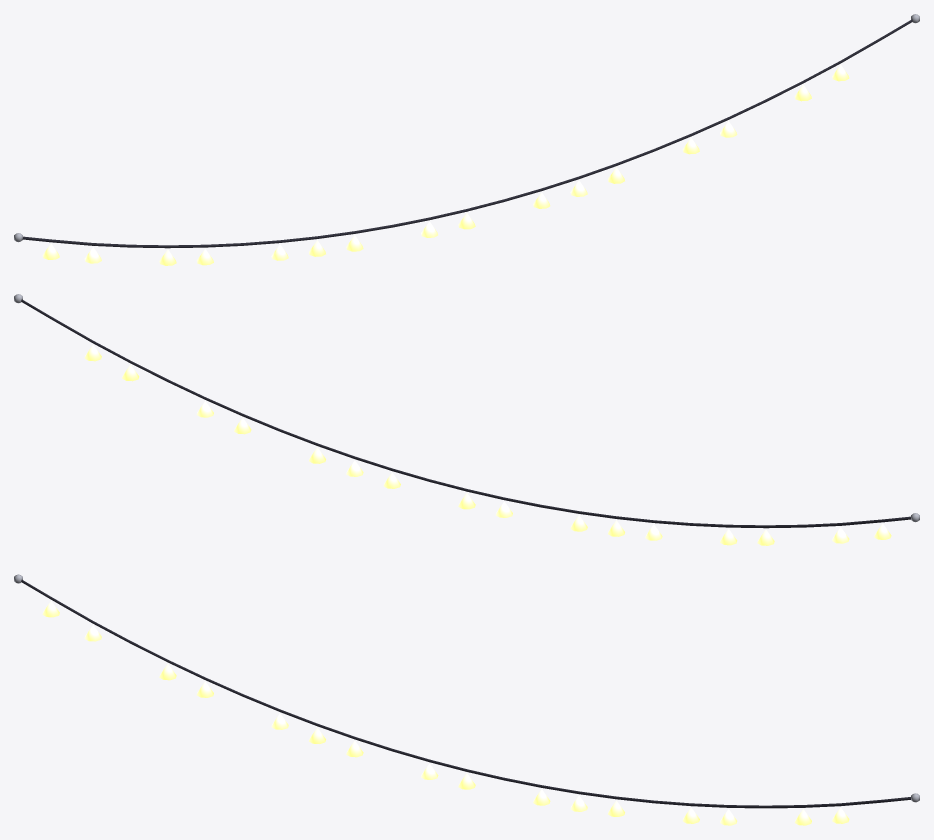
Rendered from light_string.glb.
3 renders of one model, top to bottom at view 1: azimuth 30°, elevation 25°; view 2: azimuth 150°, elevation 25°; view 3: azimuth 330°, elevation 25°, orthographic.
Visible parts, largest first — view 1: light_string, bulbs; view 2: light_string, bulbs; view 3: light_string, bulbs.
Boxes of the visible parts, left/top/right/bottom form: light_string: left=14, top=14, right=919, bottom=248; bulbs: left=42, top=64, right=849, bottom=265; light_string: left=14, top=294, right=919, bottom=528; bulbs: left=84, top=344, right=891, bottom=545; light_string: left=14, top=574, right=919, bottom=808; bulbs: left=42, top=601, right=849, bottom=825.
Size of the model in its own units: 4.03 by 0.4395 by 0.07.
